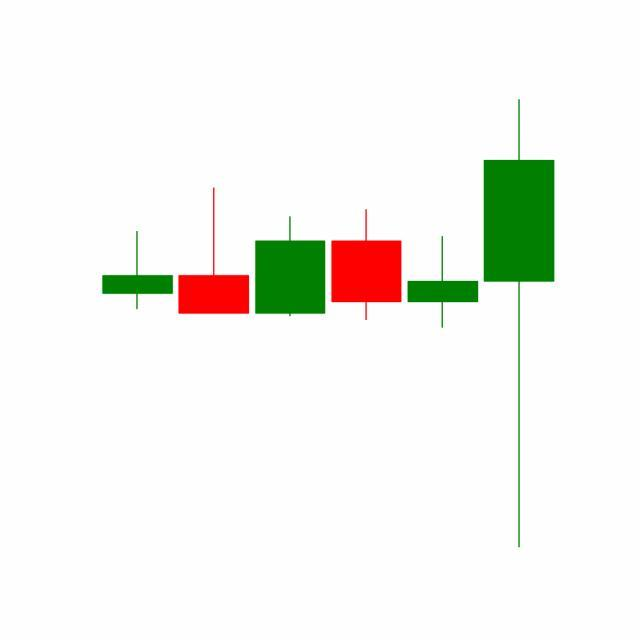Spinning Top: (404, 235, 482, 330)
